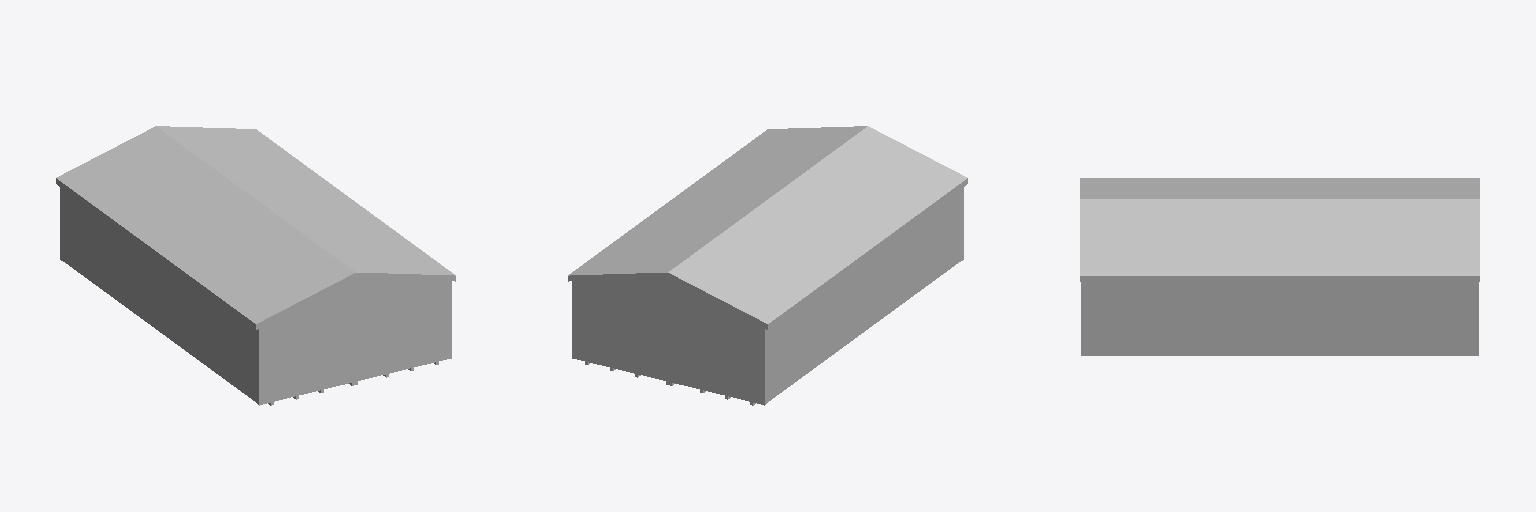
Rendered from Double Garage 3-12 PITCH ROOF_20x36.obj.
3 renders of one model, left to right at view 1: azimuth 30°, elevation 25°; view 2: azimuth 150°, elevation 25°; view 3: azimuth 270°, elevation 25°, orthographic.
Parts seen in each view (by area): view 1: Double Garage 3-12 PITCH ROOF_20x36.obj; view 2: Double Garage 3-12 PITCH ROOF_20x36.obj; view 3: Double Garage 3-12 PITCH ROOF_20x36.obj.
Part boxes in pixels (x1,y1,x2,y2): Double Garage 3-12 PITCH ROOF_20x36.obj: (56, 126, 455, 405); Double Garage 3-12 PITCH ROOF_20x36.obj: (568, 126, 967, 405); Double Garage 3-12 PITCH ROOF_20x36.obj: (1080, 178, 1479, 355).
Size of the model in its own units: 6.4 by 3.46 by 11.07.